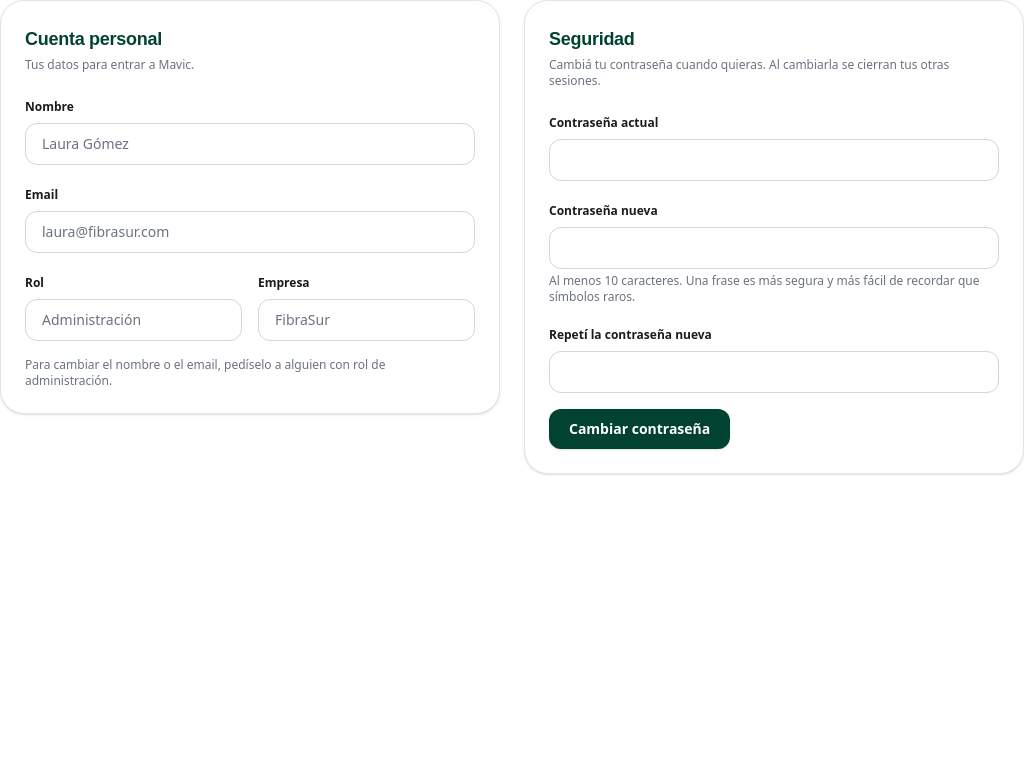
Mi cuenta: cambiar contraseña › si la actual es incorrecta, lo dice y NO saca al usuario de la app
This screenshot has width=1024, height=768.
Expected: the field showing "Laura Gómez" is shown, [25,123,475,165]
Type "mal-mal-mal" into the password field labelled "Contraseña actual" at (774, 160), box [549,139,999,181]
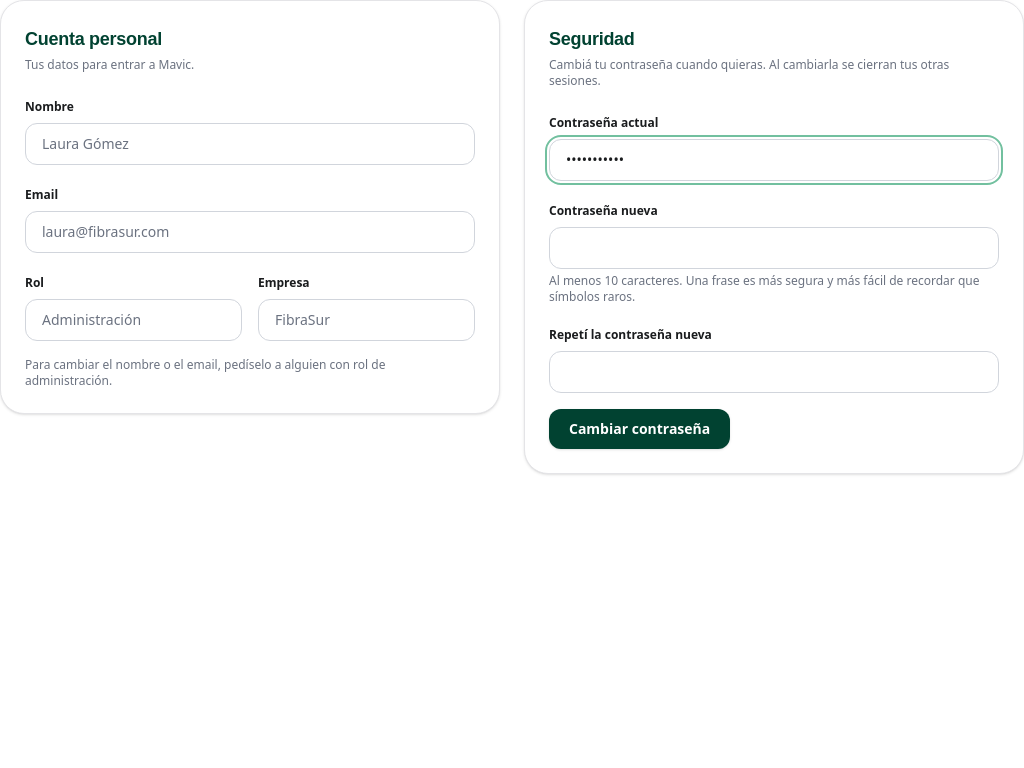
Type "una frase larga" into the password field labelled "Contraseña nueva" at (774, 248), box [549,227,999,269]
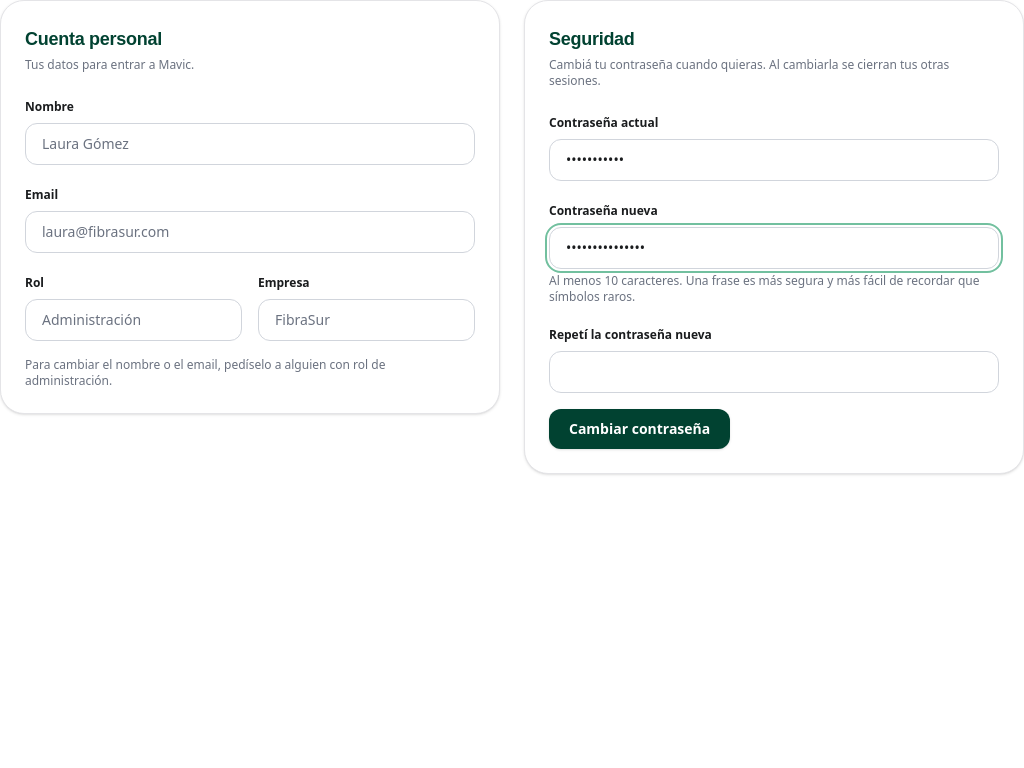
Type "una frase larga" into the password field labelled "Repetí la contraseña nueva" at (774, 372), box [549,351,999,393]
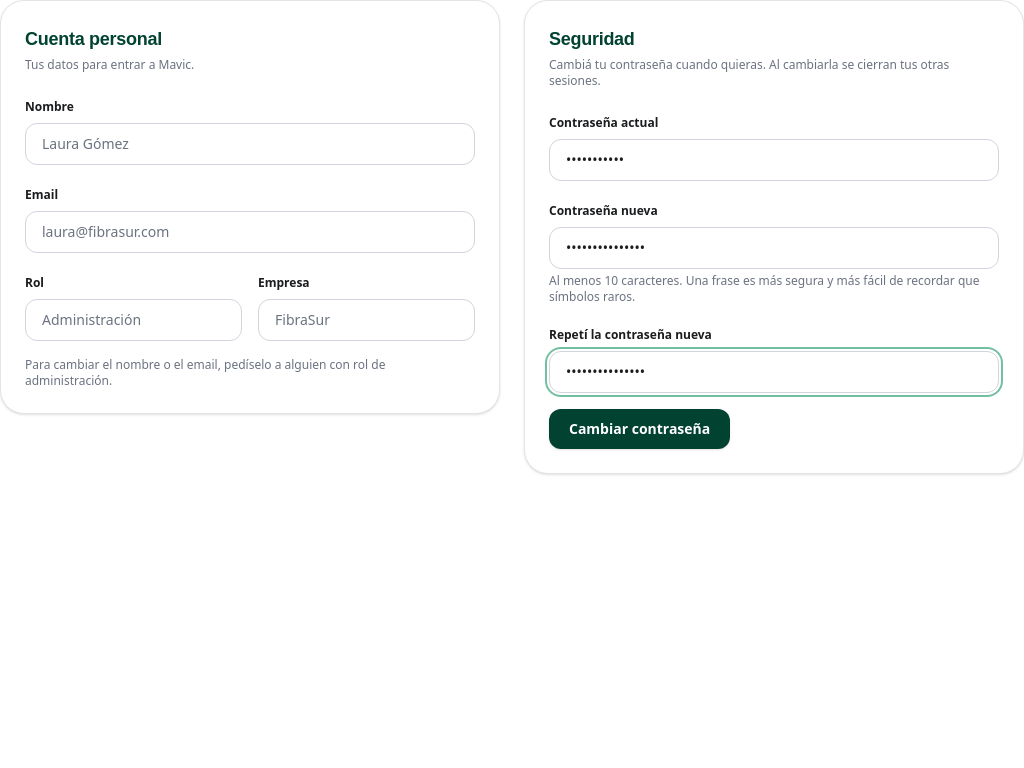
Click the button "Cambiar contraseña" at (640, 429), box [549,409,730,449]
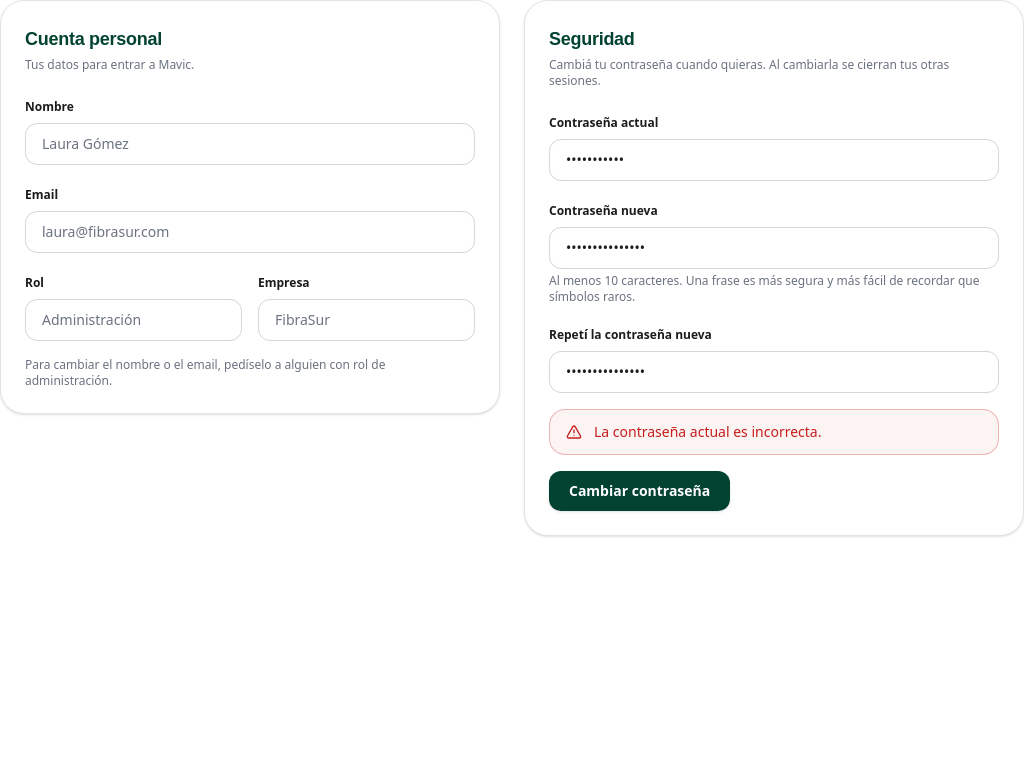
Expected: the message reads "La contraseña actual es incorrecta.", [594,422,822,441]
